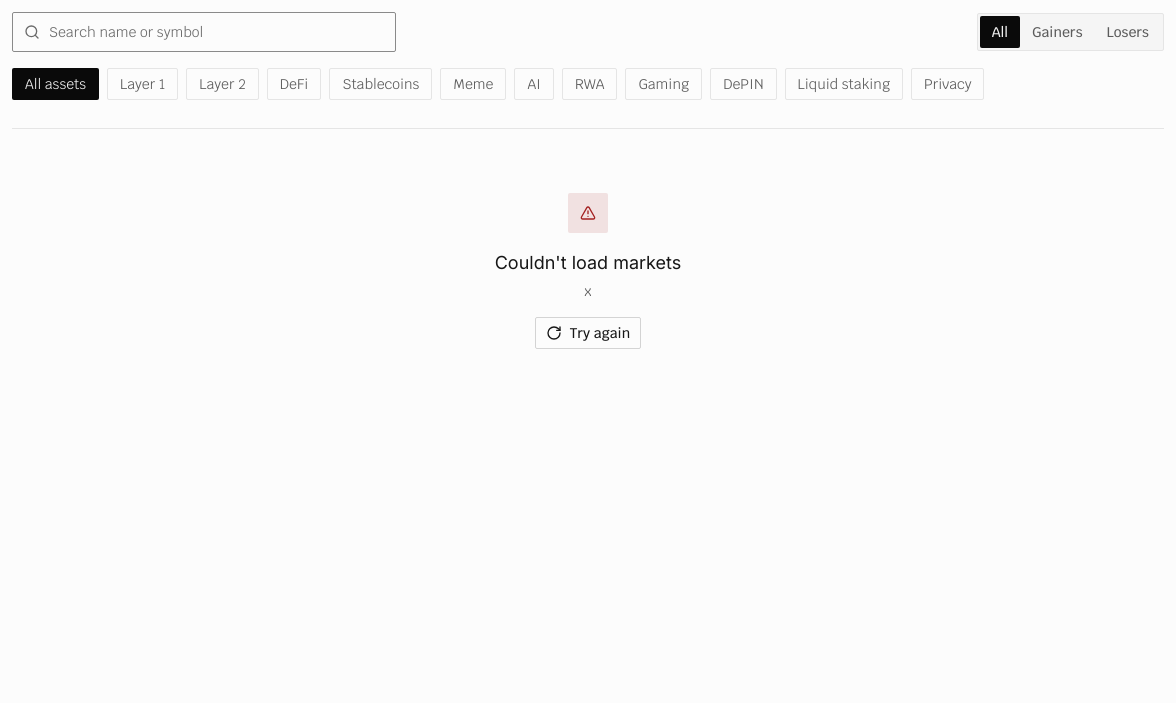
it: MarketsExplorer: loading and errors › shows a retryable error, and recovers when the retry succeeds
Expected: the message "Couldn't load markets x Try again" is shown, [495, 193, 681, 349]
Click the button "Try again". click: (588,333)
box: [535, 317, 641, 349]
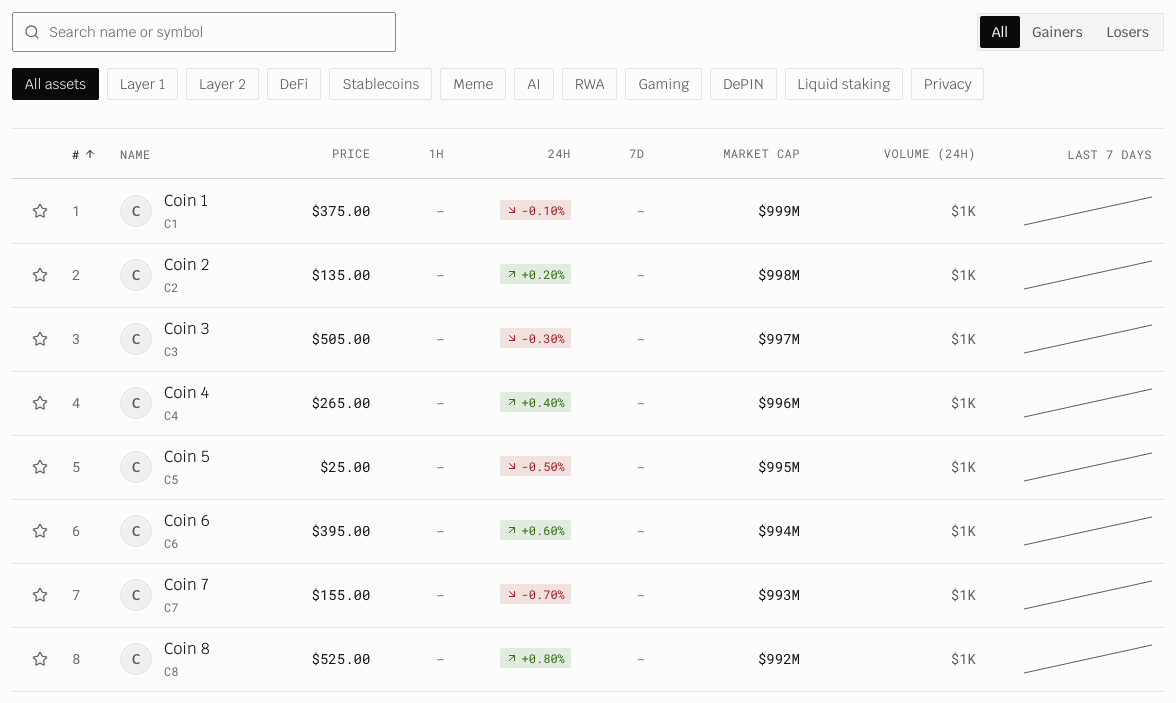
Expected: the message "Couldn't load markets x Try again" is gone
